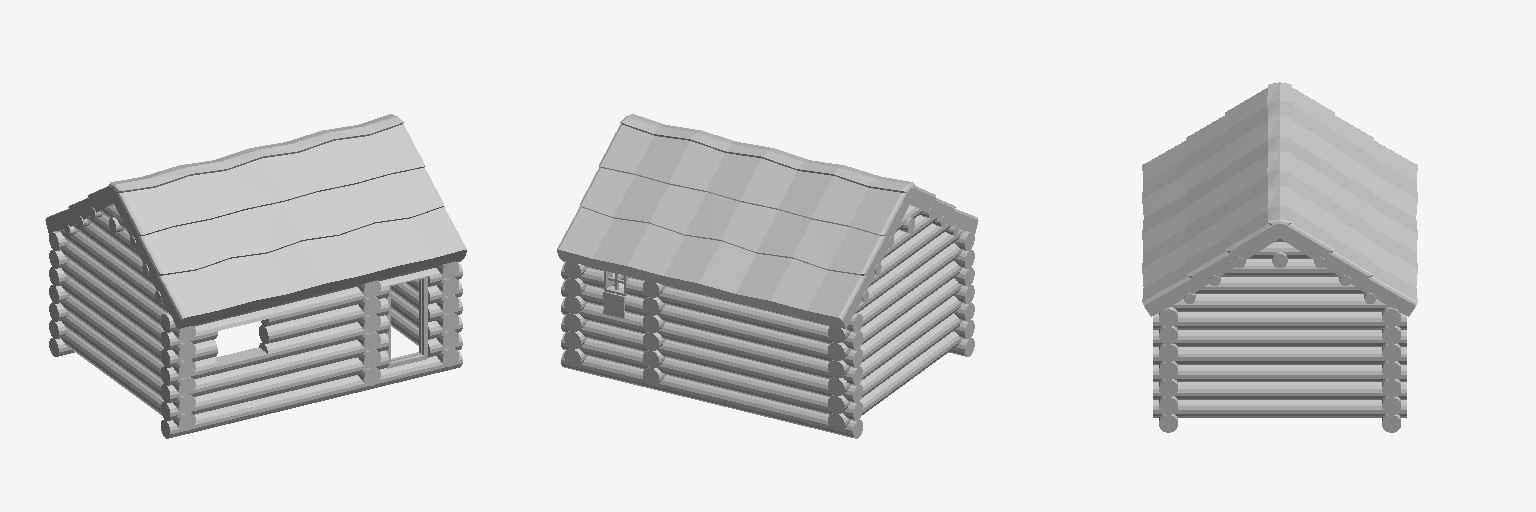
The model's file is feller.obj.
3 renders of one model, left to right at view 1: azimuth 30°, elevation 25°; view 2: azimuth 150°, elevation 25°; view 3: azimuth 270°, elevation 25°, orthographic.
Parts seen in each view (by area): view 1: Roof_low_meshId0_name.002, Logs_low_meshId8_name.002, Door_frame_low_meshId6_name.002; view 2: Roof_low_meshId0_name.002, Logs_low_meshId8_name.002; view 3: Roof_low_meshId0_name.002, Logs_low_meshId8_name.002.
Part boxes in pixels (x1,y1,x2,y2): Roof_low_meshId0_name.002: (45, 114, 466, 328); Logs_low_meshId8_name.002: (49, 205, 462, 438); Door_frame_low_meshId6_name.002: (386, 276, 427, 368); Roof_low_meshId0_name.002: (557, 114, 978, 328); Logs_low_meshId8_name.002: (561, 205, 974, 438); Roof_low_meshId0_name.002: (1142, 82, 1417, 316); Logs_low_meshId8_name.002: (1153, 239, 1406, 432).
Size of the model in its own units: 4 by 2.76 by 3.27.